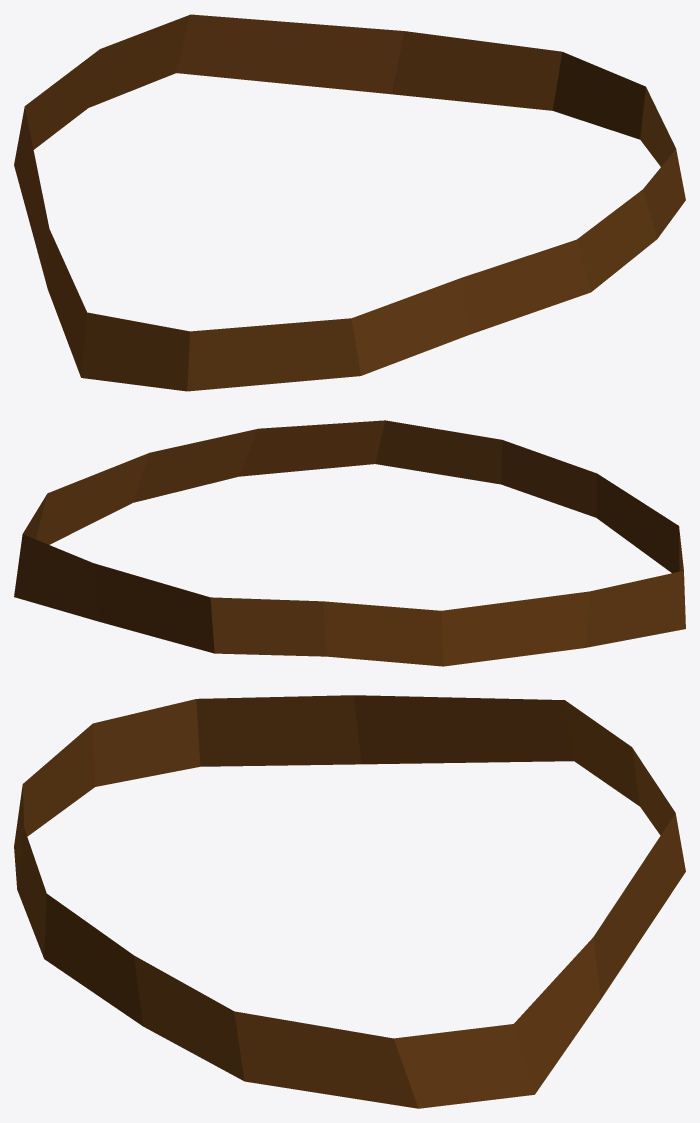
The model's file is Gold.obj.
The picture shows the model from 3 angles, top to bottom: view 1: azimuth 30°, elevation 25°; view 2: azimuth 150°, elevation 25°; view 3: azimuth 270°, elevation 25°; orthographic projection. The views are drawn at different scales.
Bounding box in the file's own units: 0.206 × 0.038 × 0.1701.
